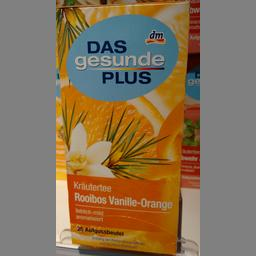tea: (54, 0, 188, 254)
